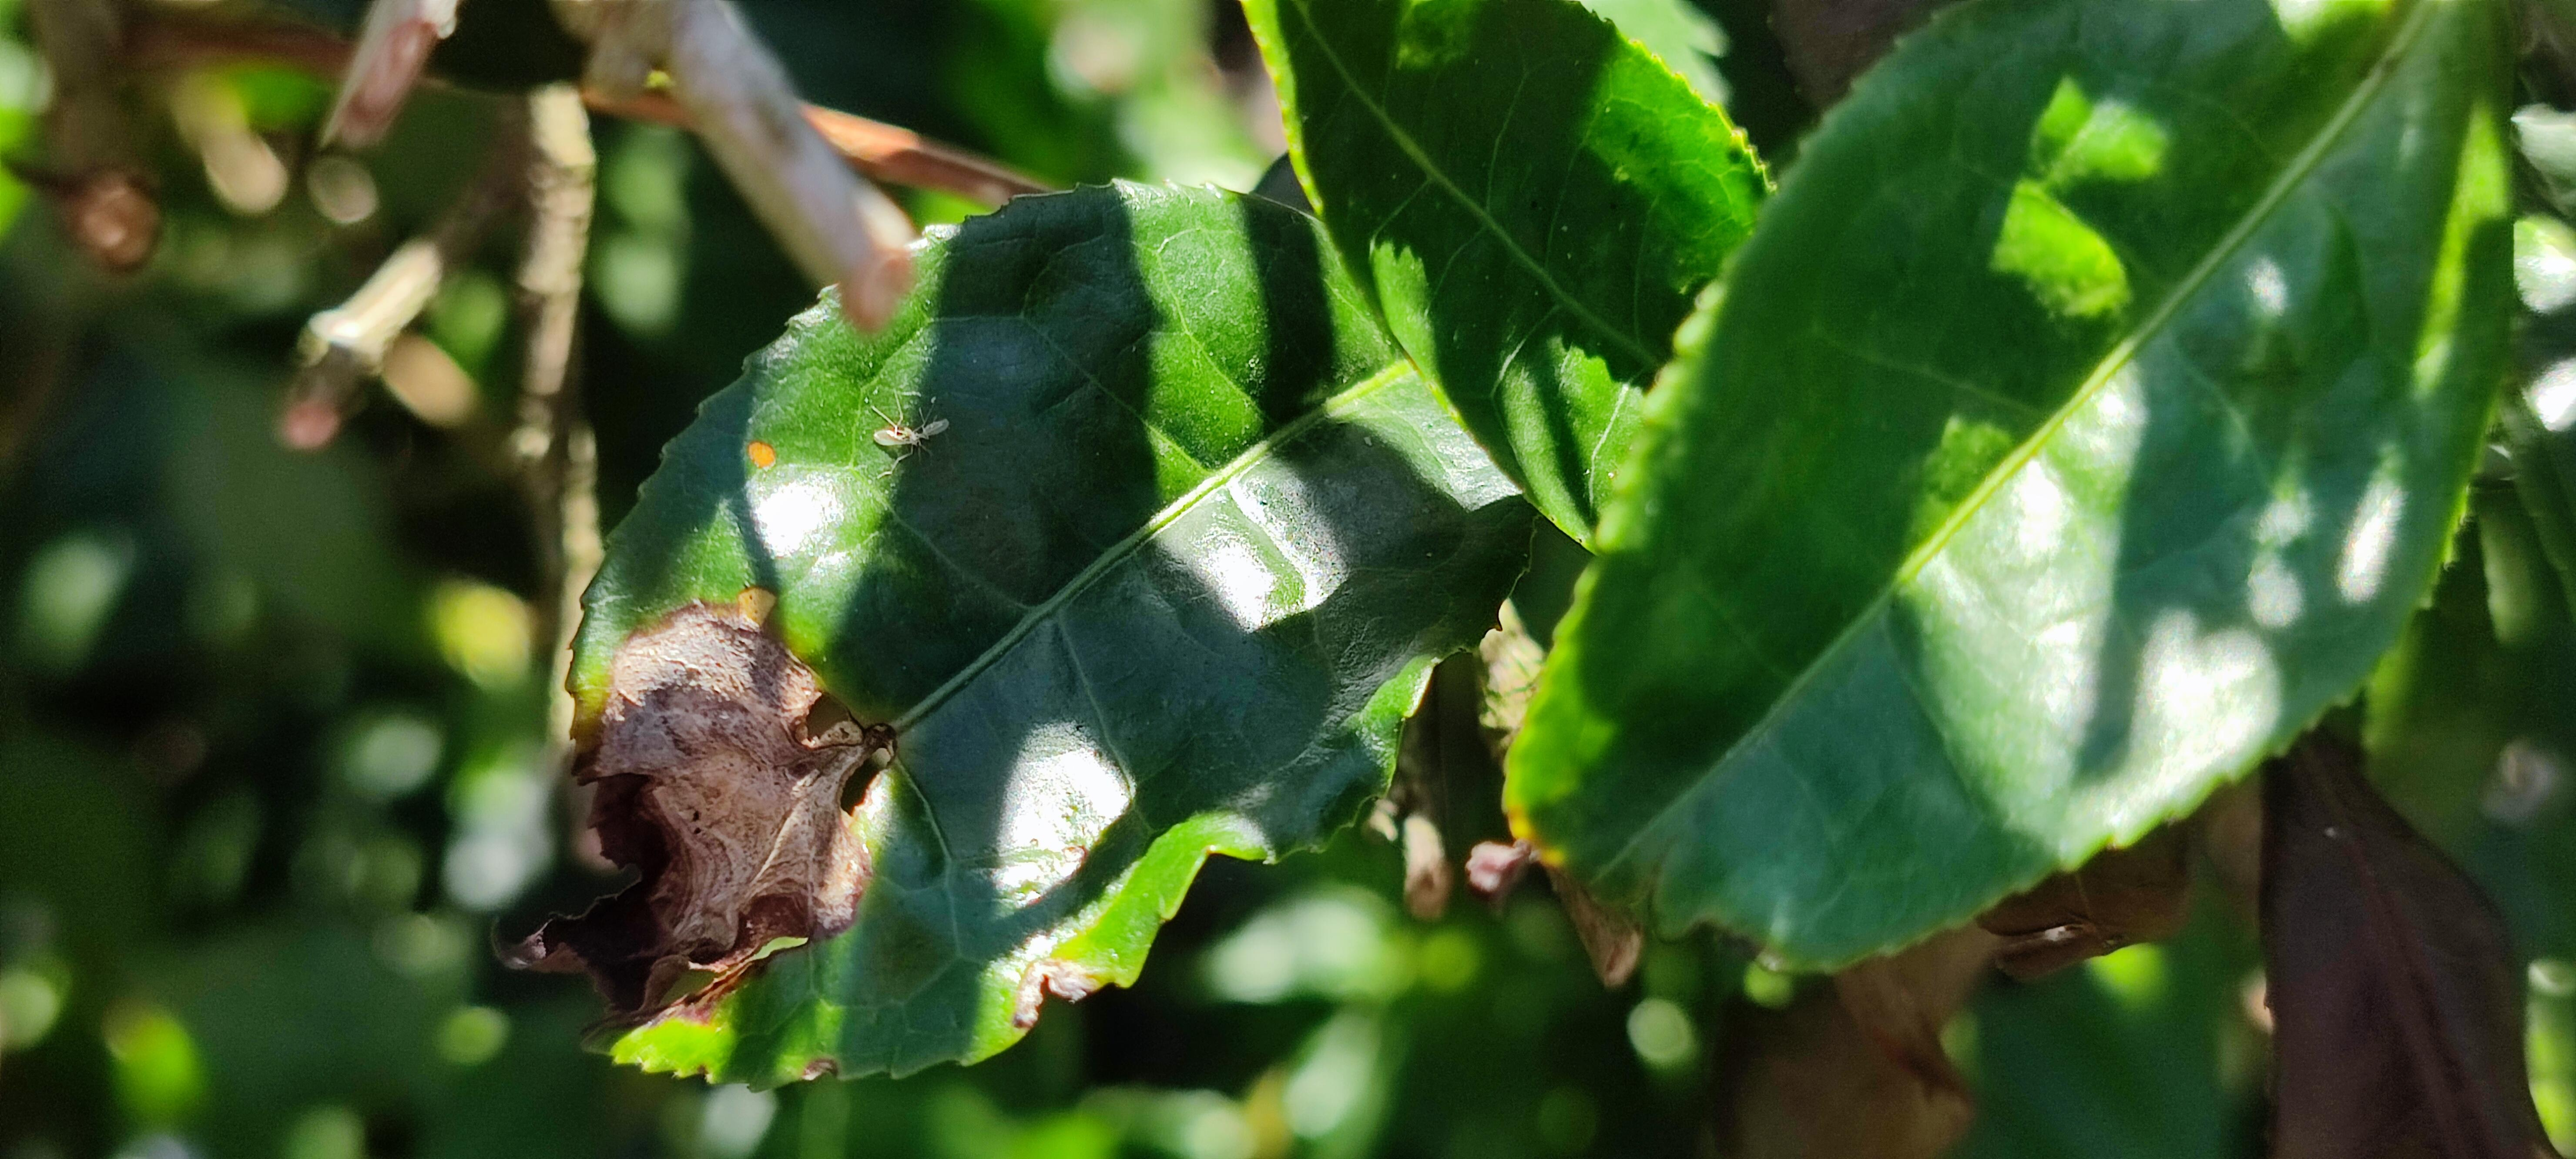tanju_high: (485, 174, 1546, 1092)
tanju_low: (1465, 0, 2517, 980)
